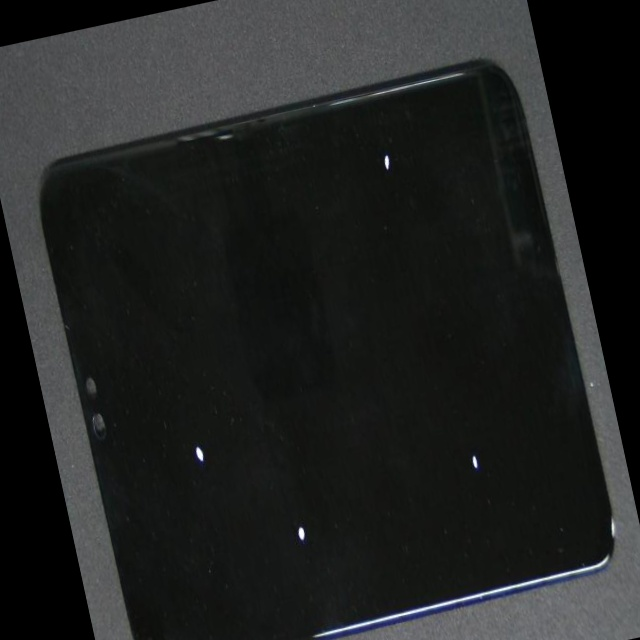stain: (227, 157, 640, 640), (135, 201, 443, 640), (179, 3, 569, 272), (74, 190, 295, 640)
